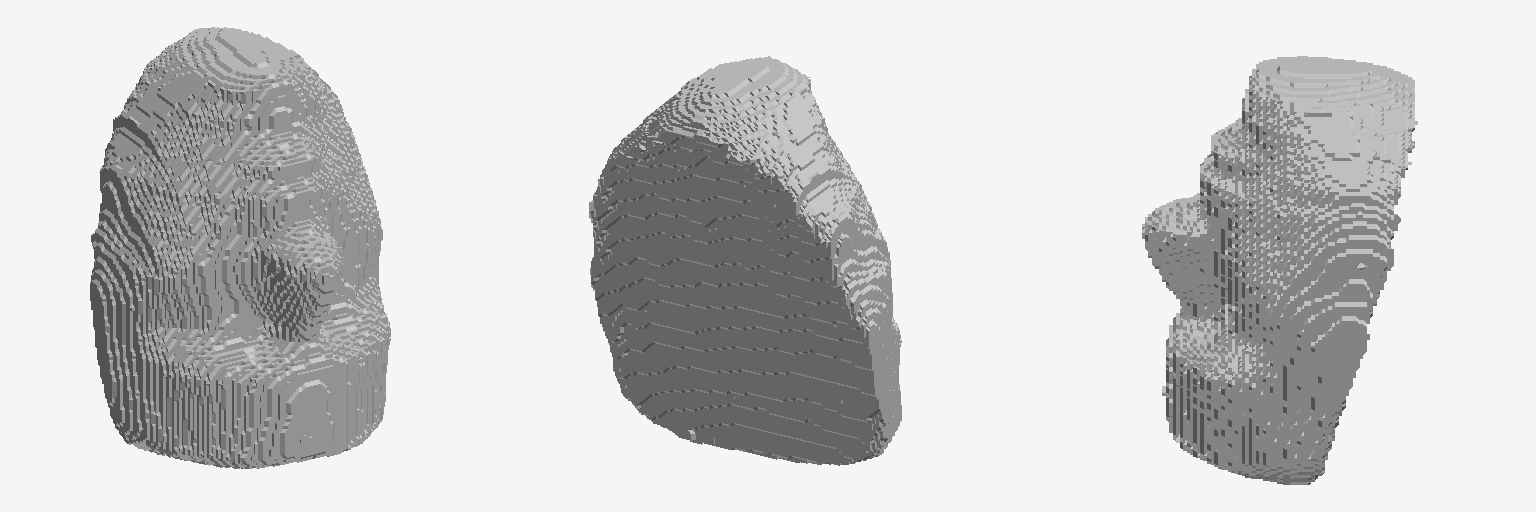
Rendered from facetest.obj.
The picture shows the model from 3 angles: view 1: azimuth 30°, elevation 25°; view 2: azimuth 150°, elevation 25°; view 3: azimuth 270°, elevation 25°; orthographic projection.
Size of the model in its own units: 89 by 122 by 80.